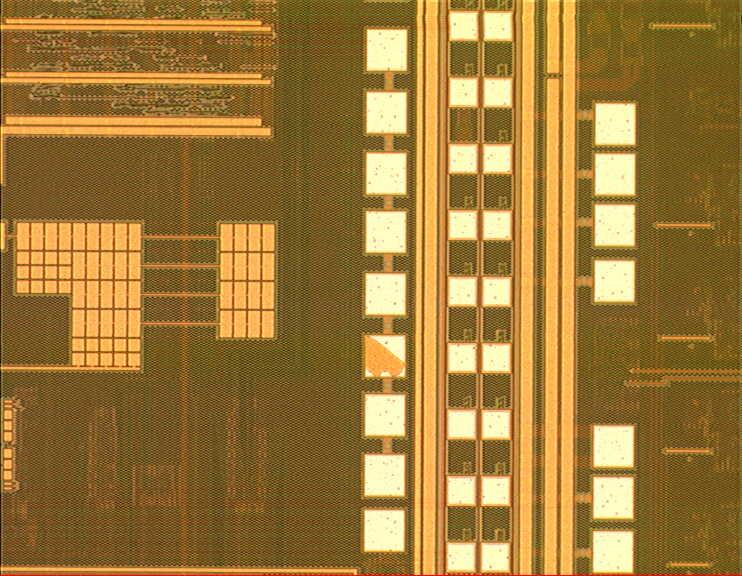BLOCK ETCH: (366, 336, 404, 377)
